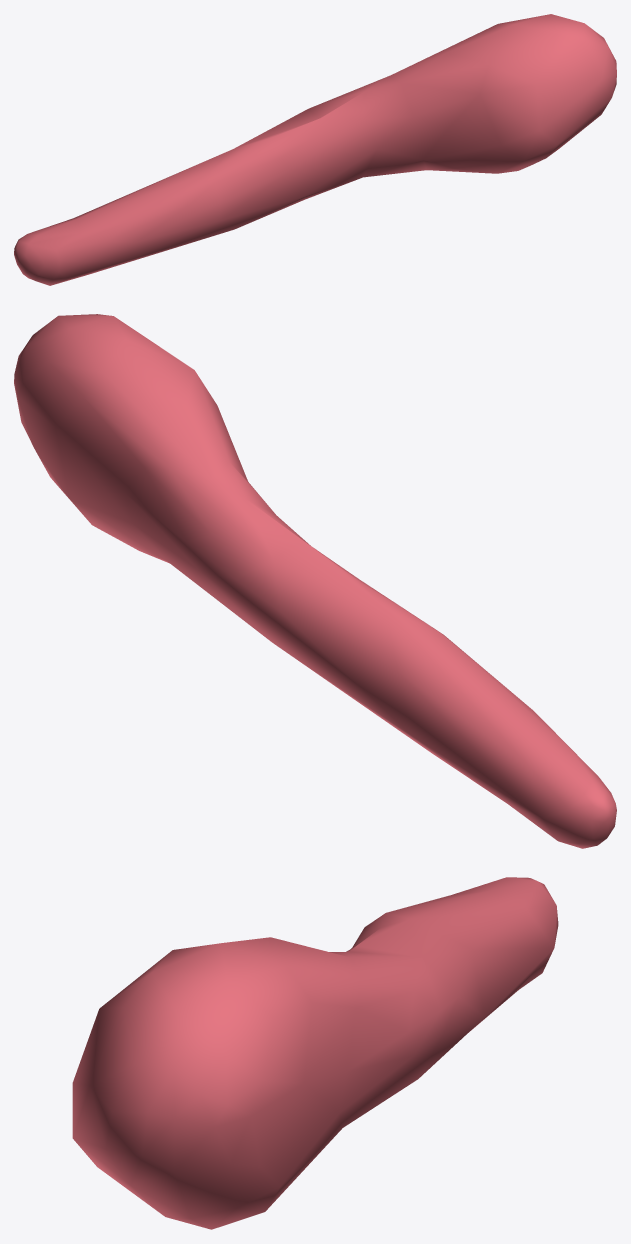
The model's file is fma66363_fj3576.glb.
3 views of the same model, one above another, from view 1: azimuth 30°, elevation 25°; view 2: azimuth 150°, elevation 25°; view 3: azimuth 270°, elevation 25° (orthographic). The views are drawn at different scales.
Parts seen in each view (by area): view 1: FMA66363_FJ3576; view 2: FMA66363_FJ3576; view 3: FMA66363_FJ3576.
Boxes of the visible parts, x1,y1,x2,y2 form: FMA66363_FJ3576: [14, 14, 616, 285]; FMA66363_FJ3576: [14, 314, 616, 848]; FMA66363_FJ3576: [72, 877, 558, 1229].
Bounding box in the file's own units: 0.0533 × 0.0213 × 0.022.
